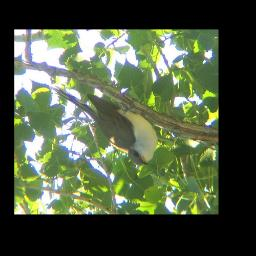Cuckoo: (48, 85, 158, 166)
